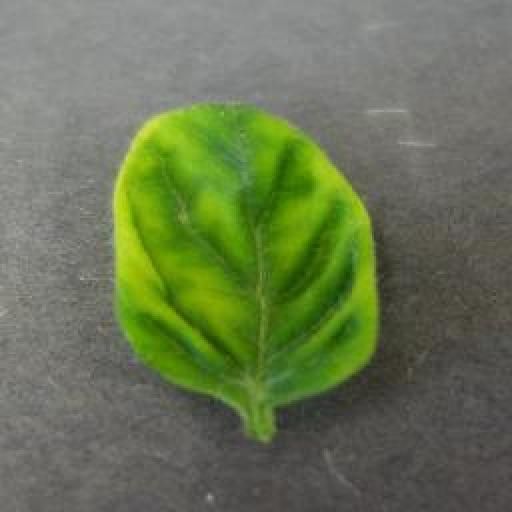disease_tomato: (116, 106, 382, 404)
